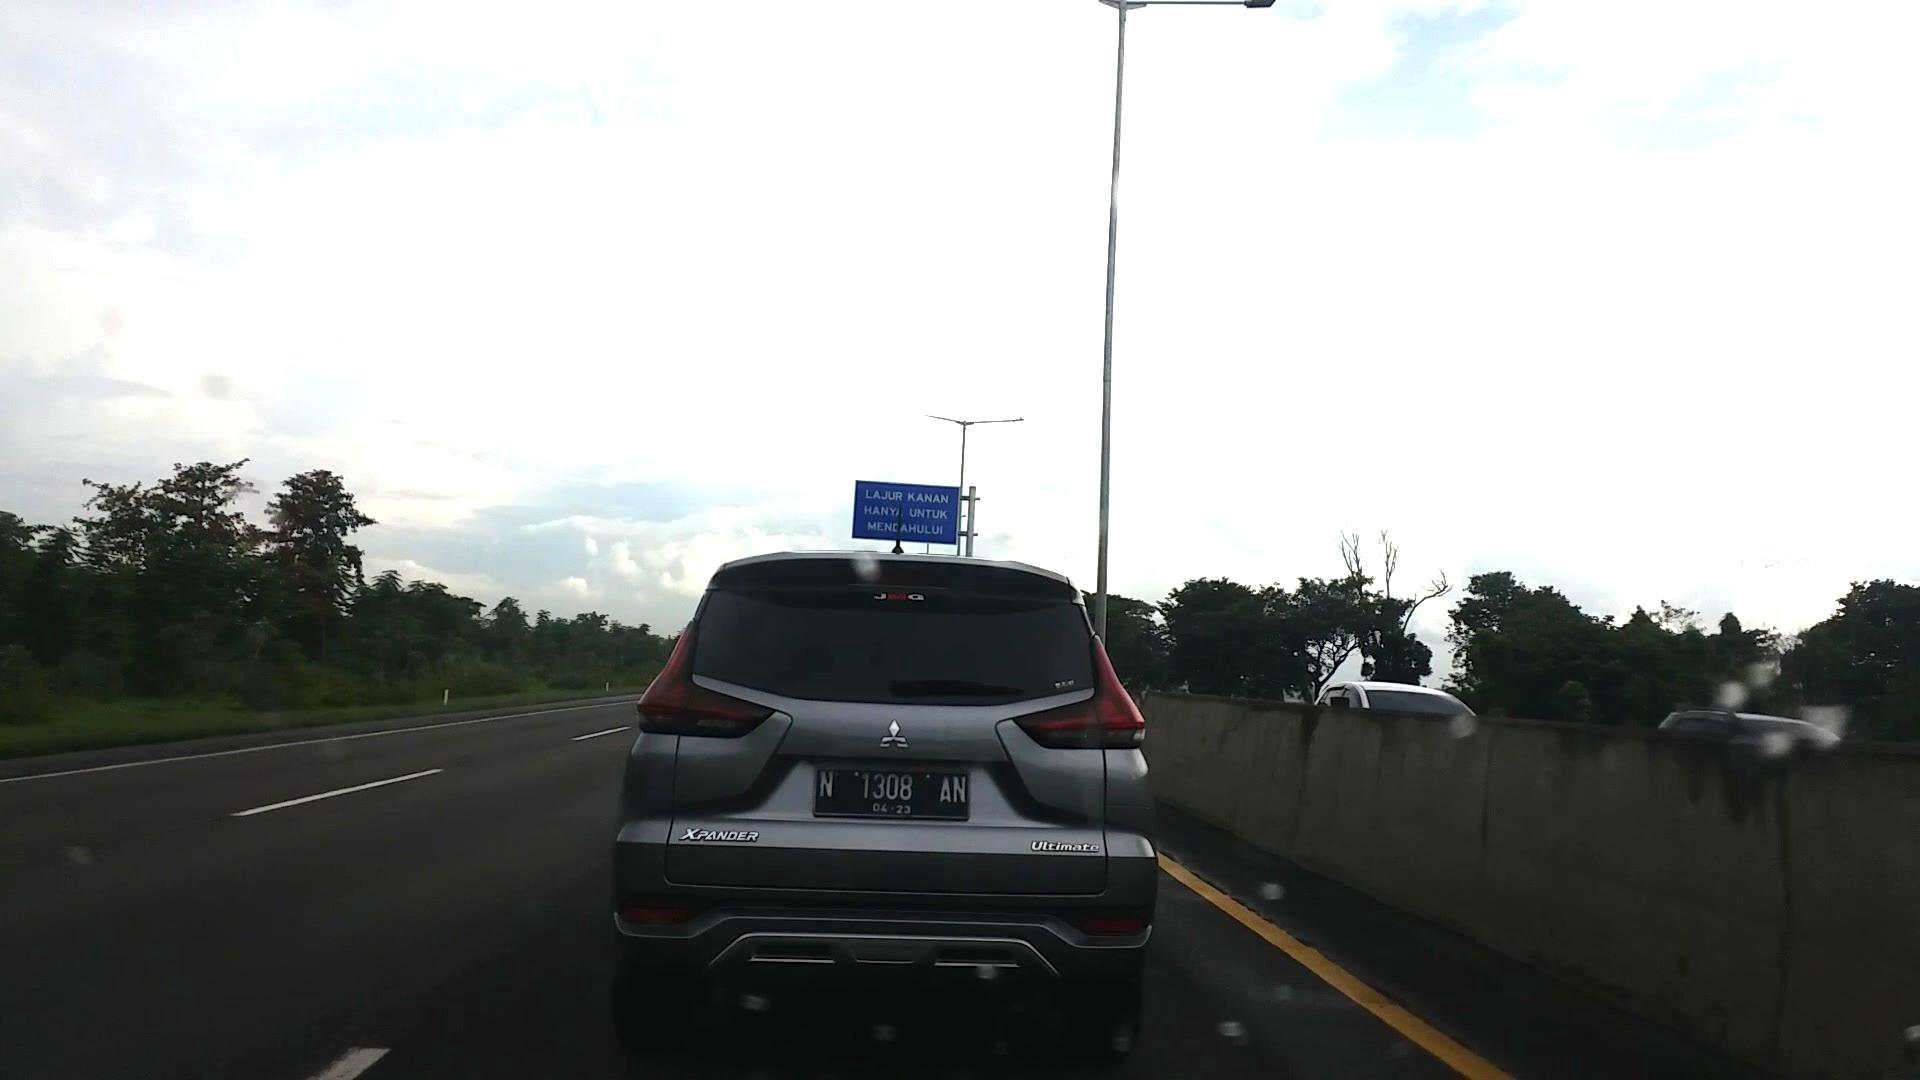plate_positive: (814, 767, 969, 820)
